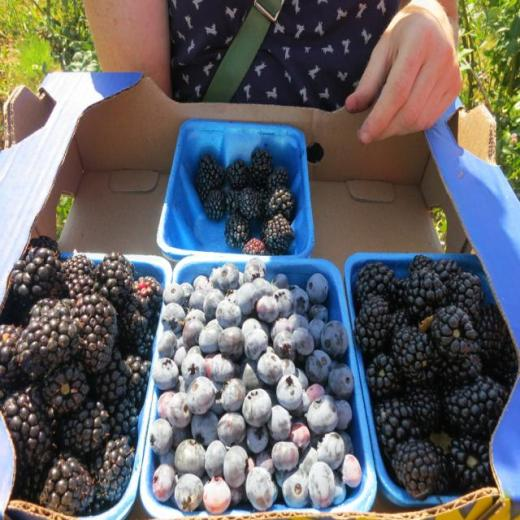Orange: (0, 234, 164, 518), (354, 256, 520, 501), (196, 147, 296, 258)
